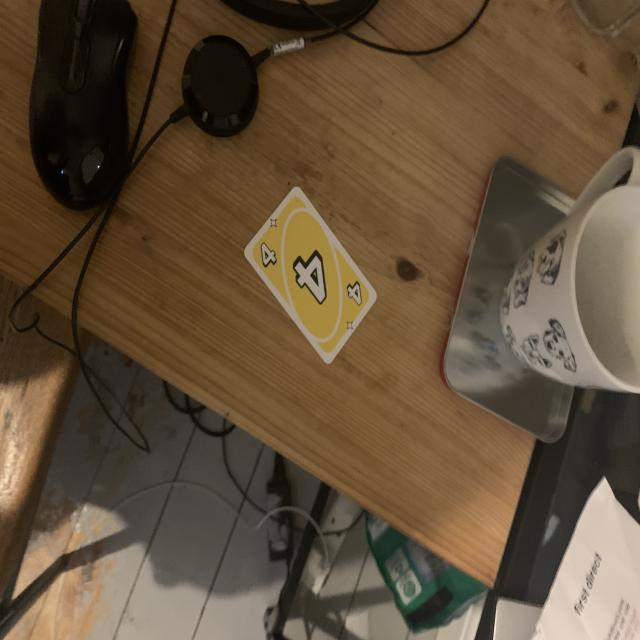lyellow-4: (255, 236, 283, 277)
